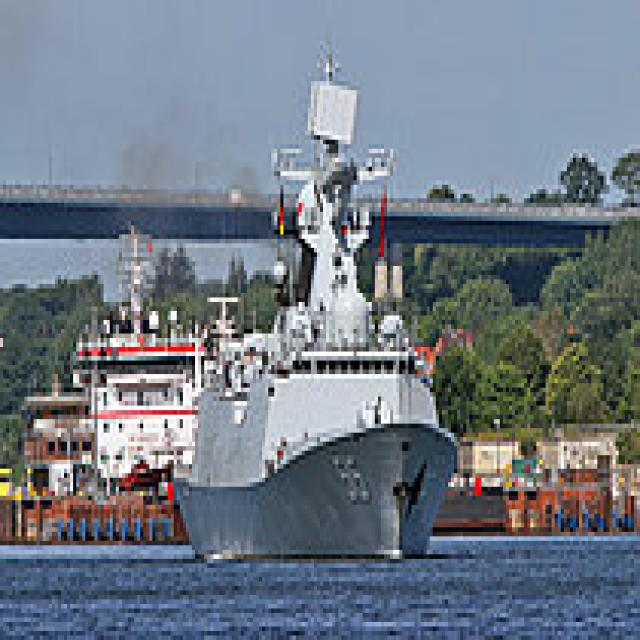Warship: (168, 40, 457, 559)
